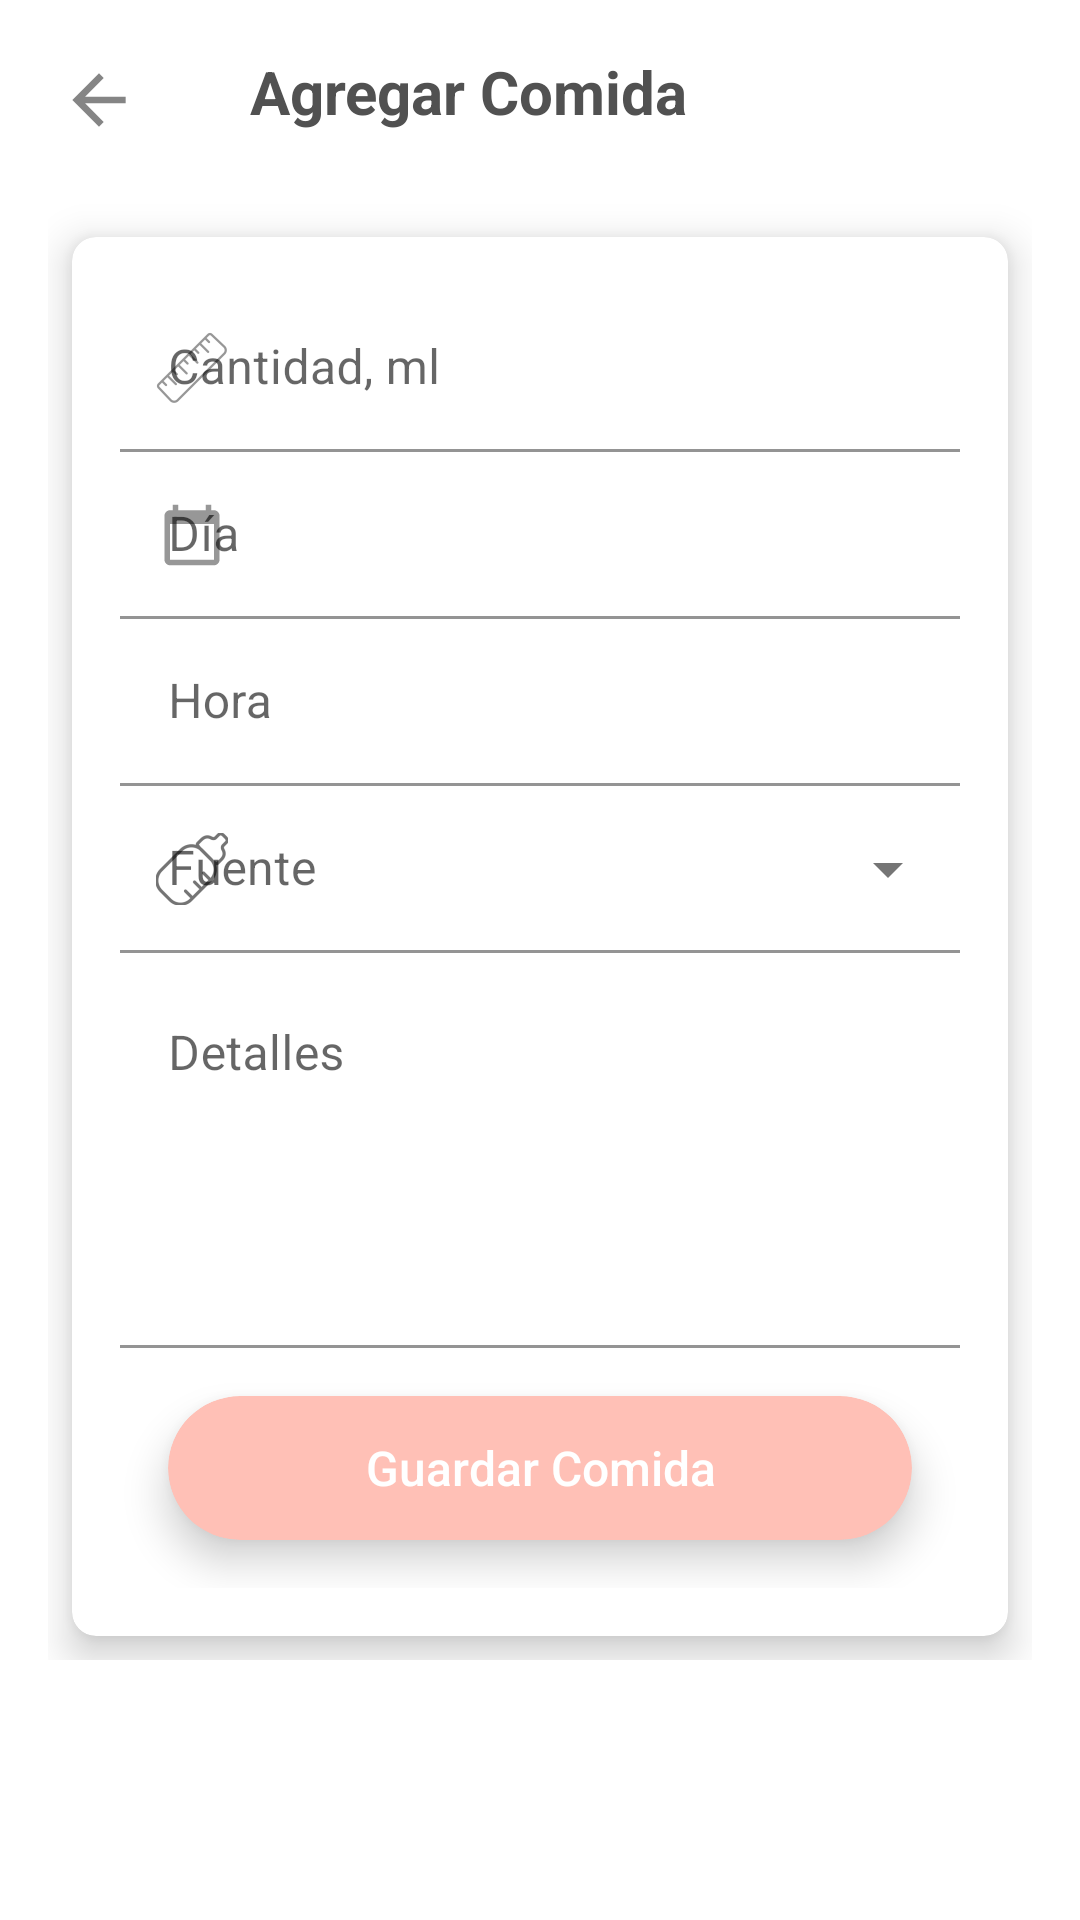

Locate icon controls on the screen. Image size 1080 x 1920, boxes as (x1, y1, x2, y2).
back: (72, 73, 126, 127)
